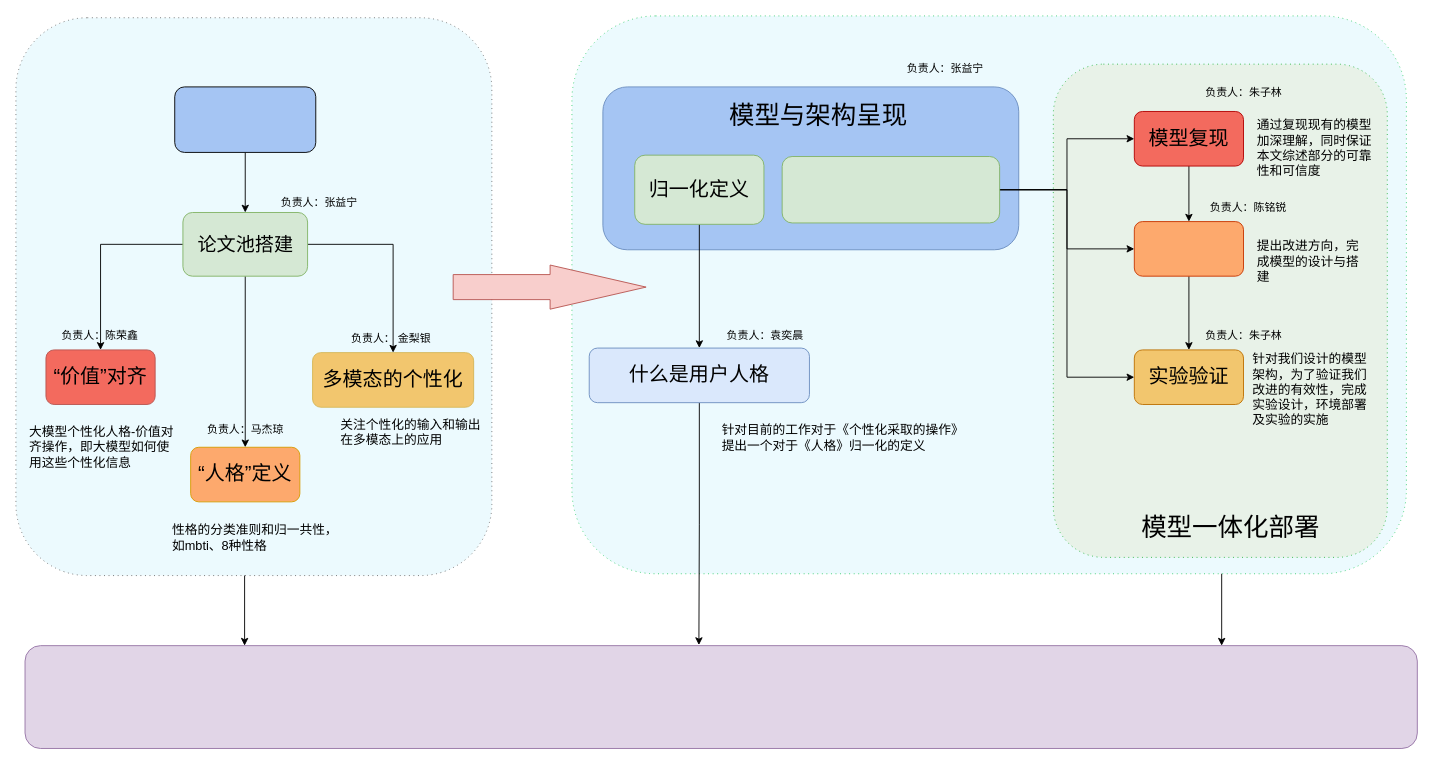
Some shapes in this 1433 by 764 pixel diagram are drawn without their labels. The shapes that lost their labels are listed below. From the top down, each one's centre as x and y in pixels, then its label:
At point 245,119: "综述".
At point 890,189: "人格-价值对齐大模型".
At point 1188,248: "模型设计".
At point 720,696: "未来展望".
